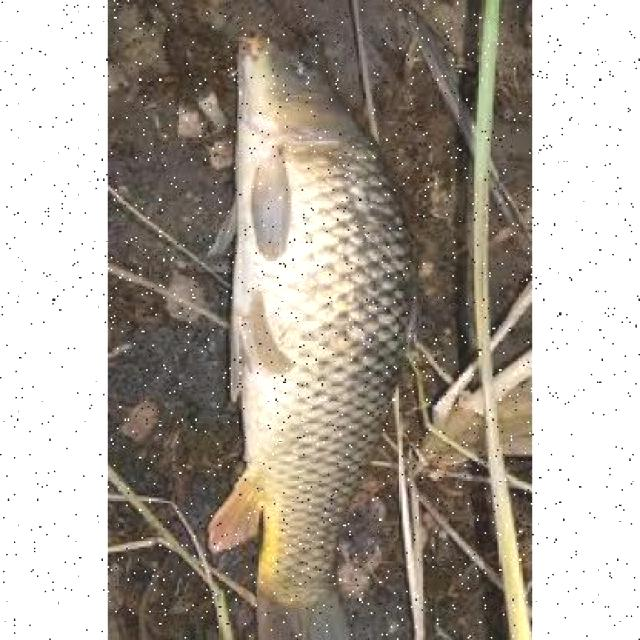ikan-mas: (217, 15, 420, 634)
